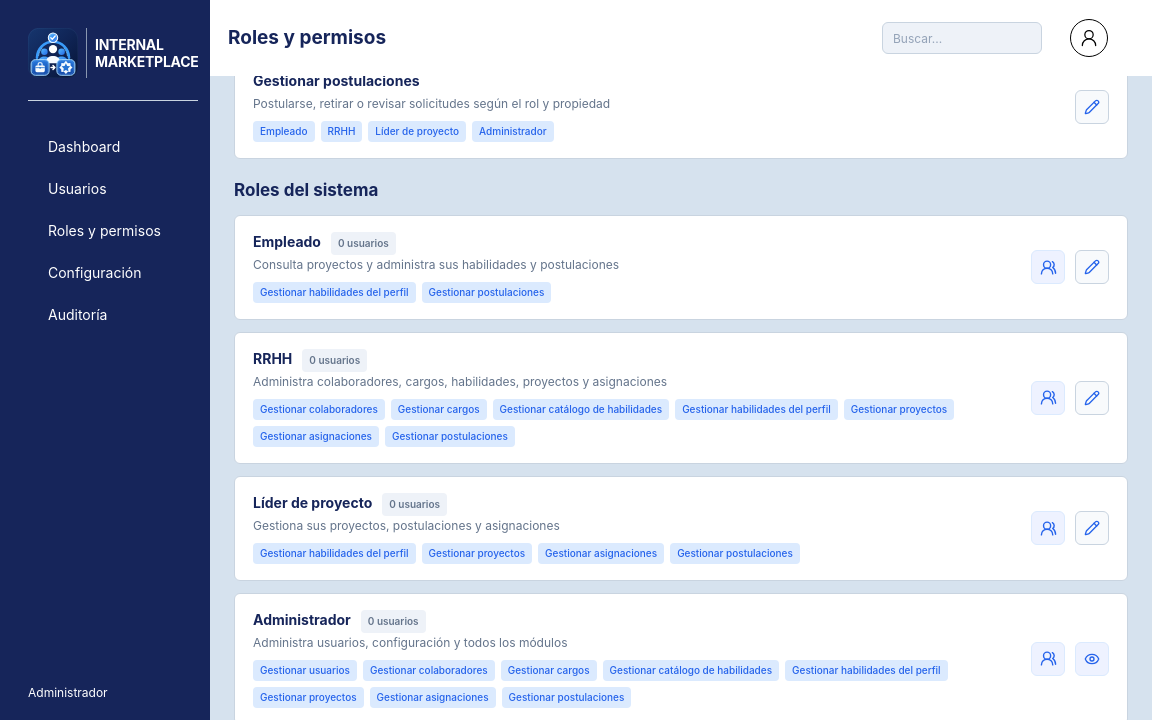
Test: Roles, permisos y configuración de Administración › permite configurar RRHH cuando la API usa el catálogo oficial completo
The image size is (1152, 720).
(page scrolled)
Click the button named "Configurar permisos de RRHH" at (1092, 398), box 1075,381 -> 1109,415
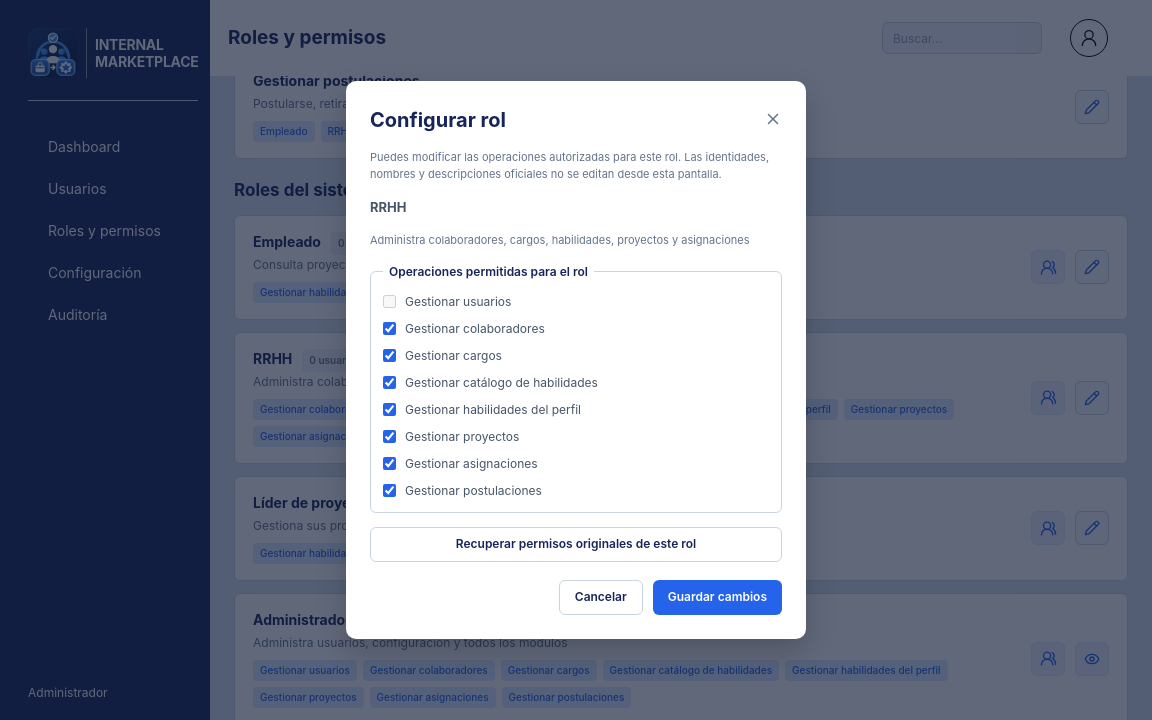
expect the dialog is shown: met, box 346,81 -> 806,639
expect the text "Operaciones permitidas para el rol" is shown: met, box 383,263 -> 594,281
expect the checkbox labelled "Gestionar colaboradores" is checked: met, box 383,322 -> 396,335
